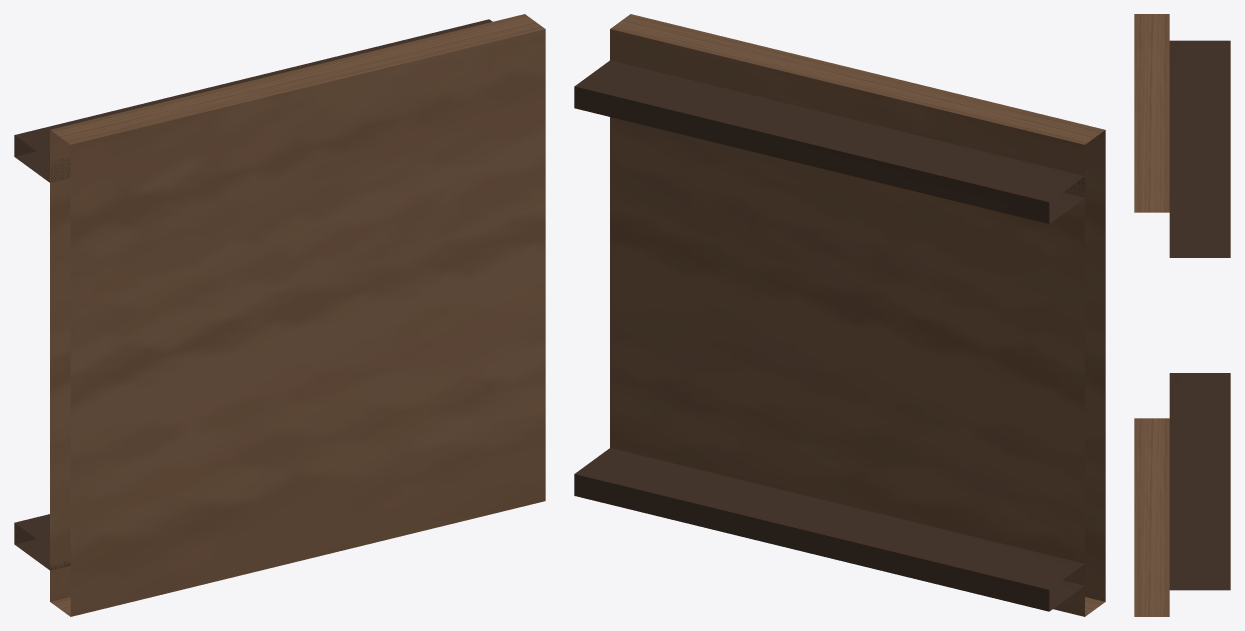
Rendered from pz_table_tables_high_02_long_brown_1_0.obj.
3 renders of one model, left to right at view 1: azimuth 30°, elevation 25°; view 2: azimuth 150°, elevation 25°; view 3: azimuth 270°, elevation 25°, orthographic. The views are drawn at different scales.
Bounding box in the file's own units: 1 × 0.95 × 0.205.
1 material, 1 textured.
